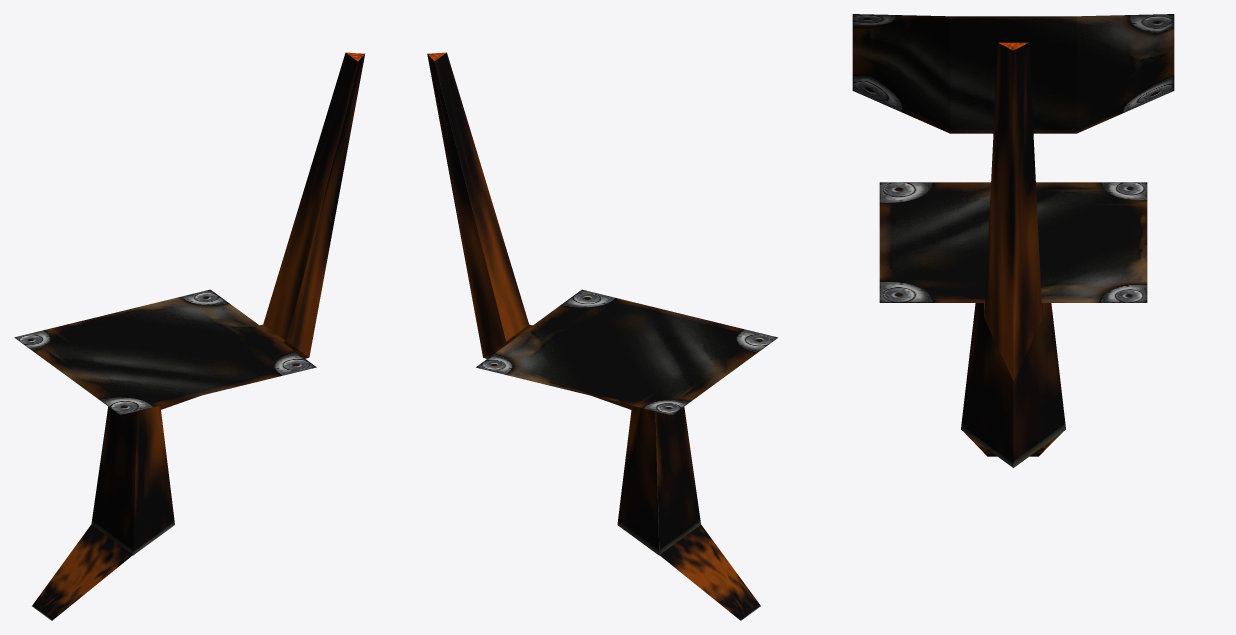
File: BüroSessel [Schwarz]_1790.glb
The picture shows the model from 3 angles, left to right: view 1: azimuth 30°, elevation 25°; view 2: azimuth 150°, elevation 25°; view 3: azimuth 270°, elevation 25°; orthographic projection. The views are drawn at different scales.
Visible parts, largest first — view 1: pPlaneShape23, pCylinderShape20, pPlaneShape20; view 2: pPlaneShape23, pCylinderShape20, pPlaneShape20; view 3: pPlaneShape19, pPlaneShape23, pCylinderShape20.
Part boxes in pixels (x1,y1,x2,y2): pPlaneShape23: [14, 289, 316, 415]; pCylinderShape20: [91, 52, 364, 555]; pPlaneShape20: [32, 524, 132, 620]; pPlaneShape23: [476, 289, 777, 415]; pCylinderShape20: [427, 52, 700, 555]; pPlaneShape20: [659, 524, 760, 620]; pPlaneShape19: [852, 14, 1174, 133]; pPlaneShape23: [879, 182, 1147, 302]; pCylinderShape20: [961, 42, 1065, 467].
Bounding box in the file's own units: 0.0894 × 0.1332 × 0.0788.
6 materials, 6 textured.
